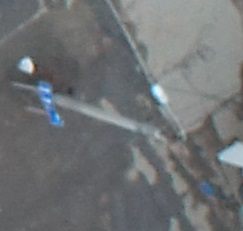opora: (52, 83, 189, 144)
